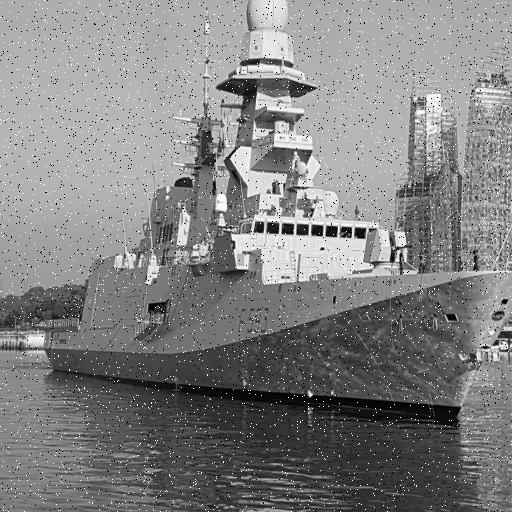Fragata: (41, 1, 512, 417)
